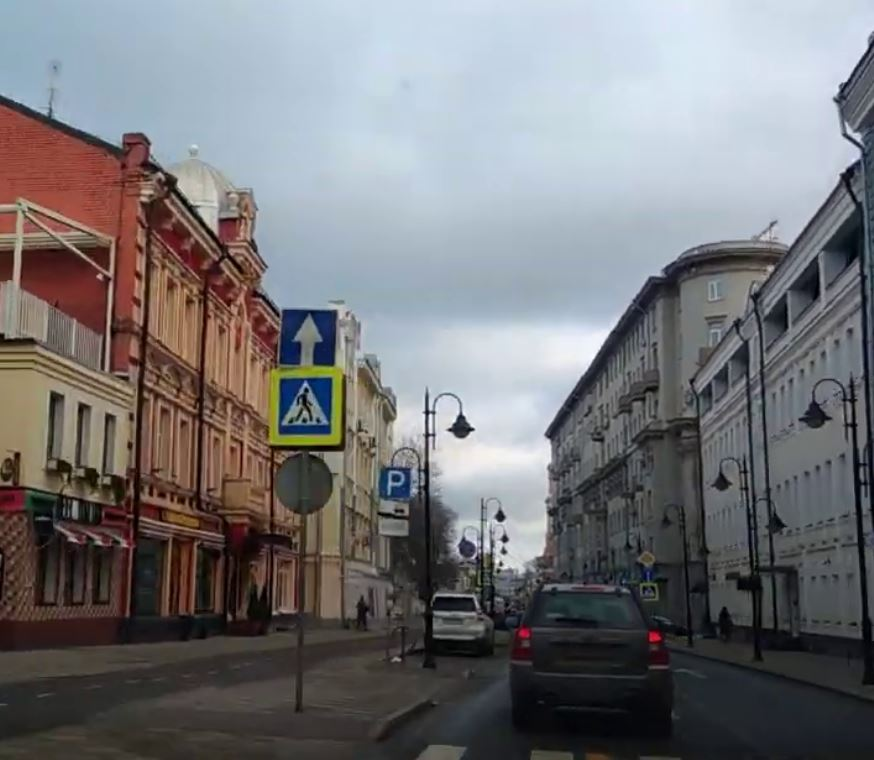Yaya Gecidi: (278, 378, 334, 435)
